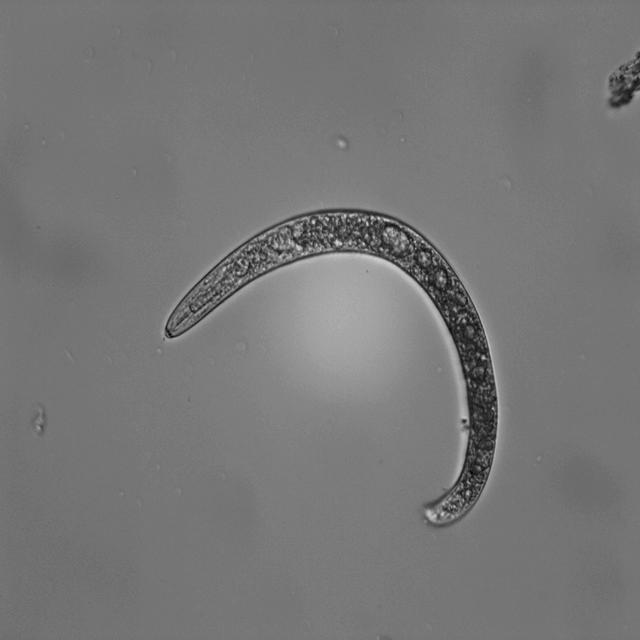Helicotylenchus: (155, 203, 500, 529)
